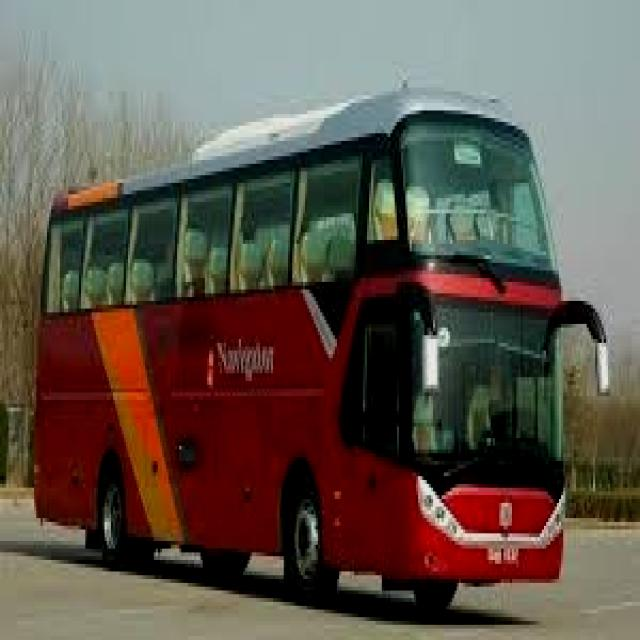bus: (27, 74, 619, 628)
